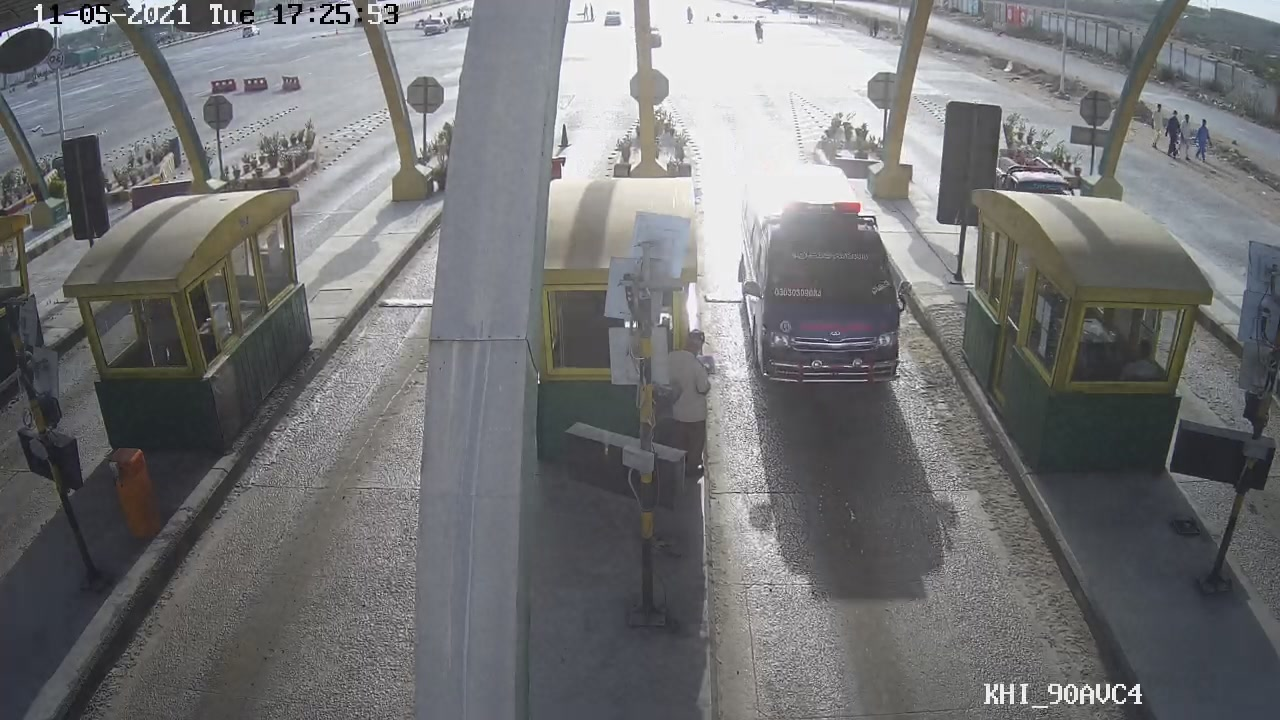F2: (730, 197, 930, 394)
